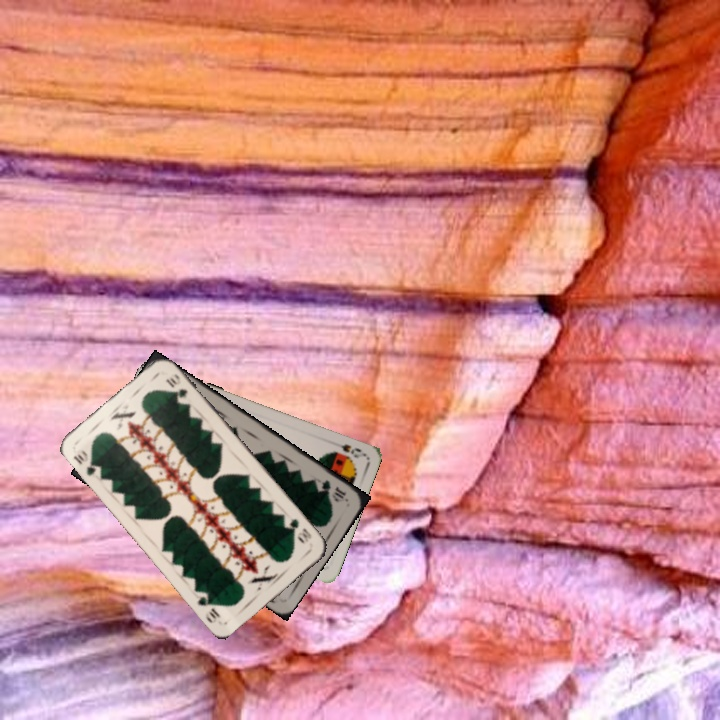G10: (69, 446, 104, 478), (285, 514, 314, 546), (317, 476, 348, 503)
SO: (337, 440, 366, 461)
